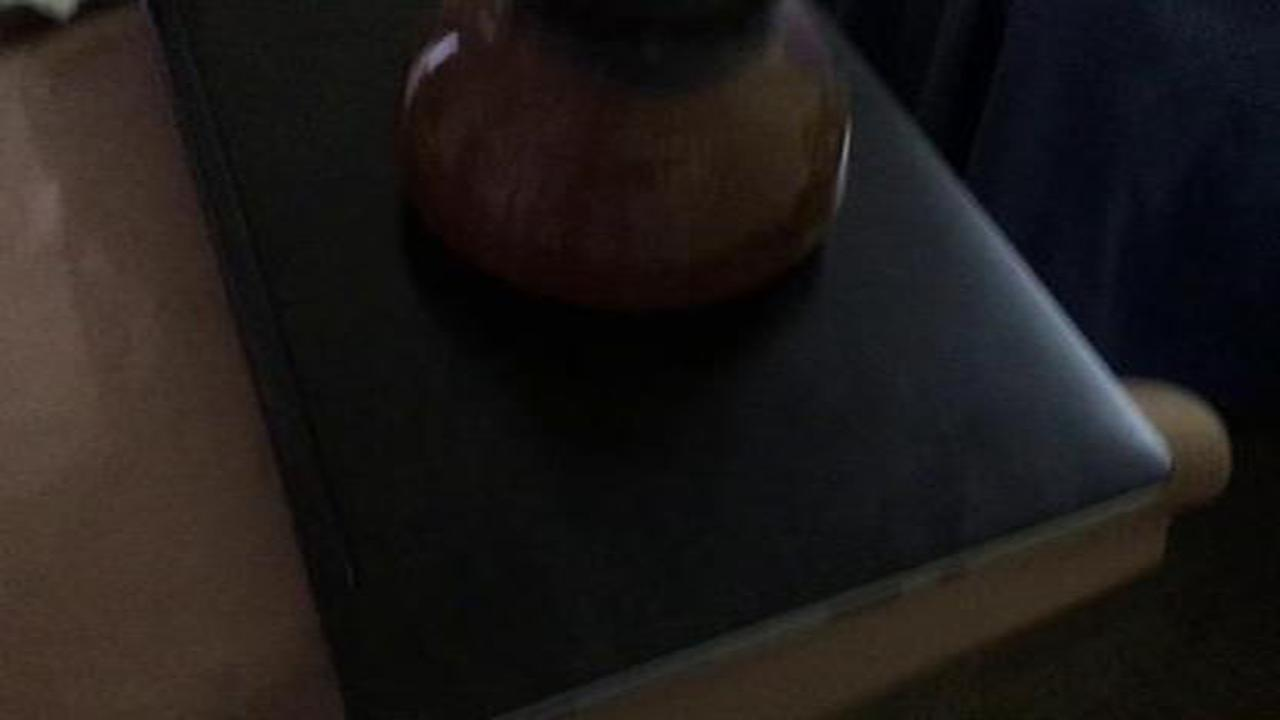insulator_pin: (373, 16, 890, 298)
